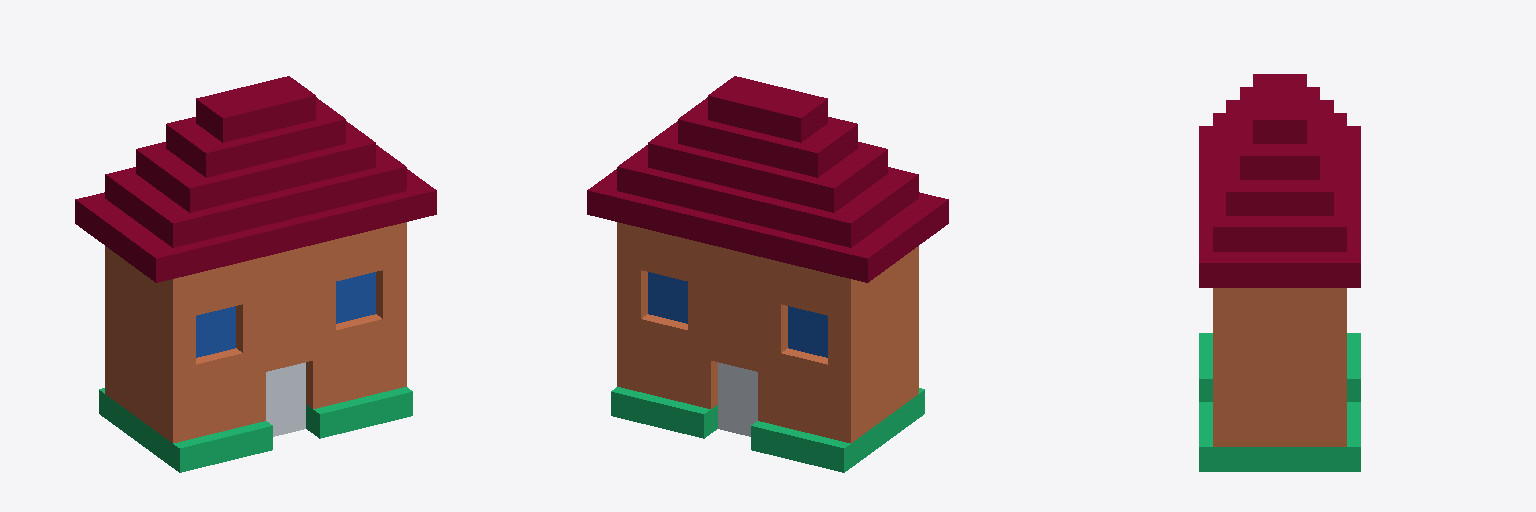
The model's file is HousingIcon.obj.
3 views of the same model, side by side, from view 1: azimuth 30°, elevation 25°; view 2: azimuth 150°, elevation 25°; view 3: azimuth 270°, elevation 25° (orthographic).
Bounding box in the file's own units: 12 × 13 × 6.